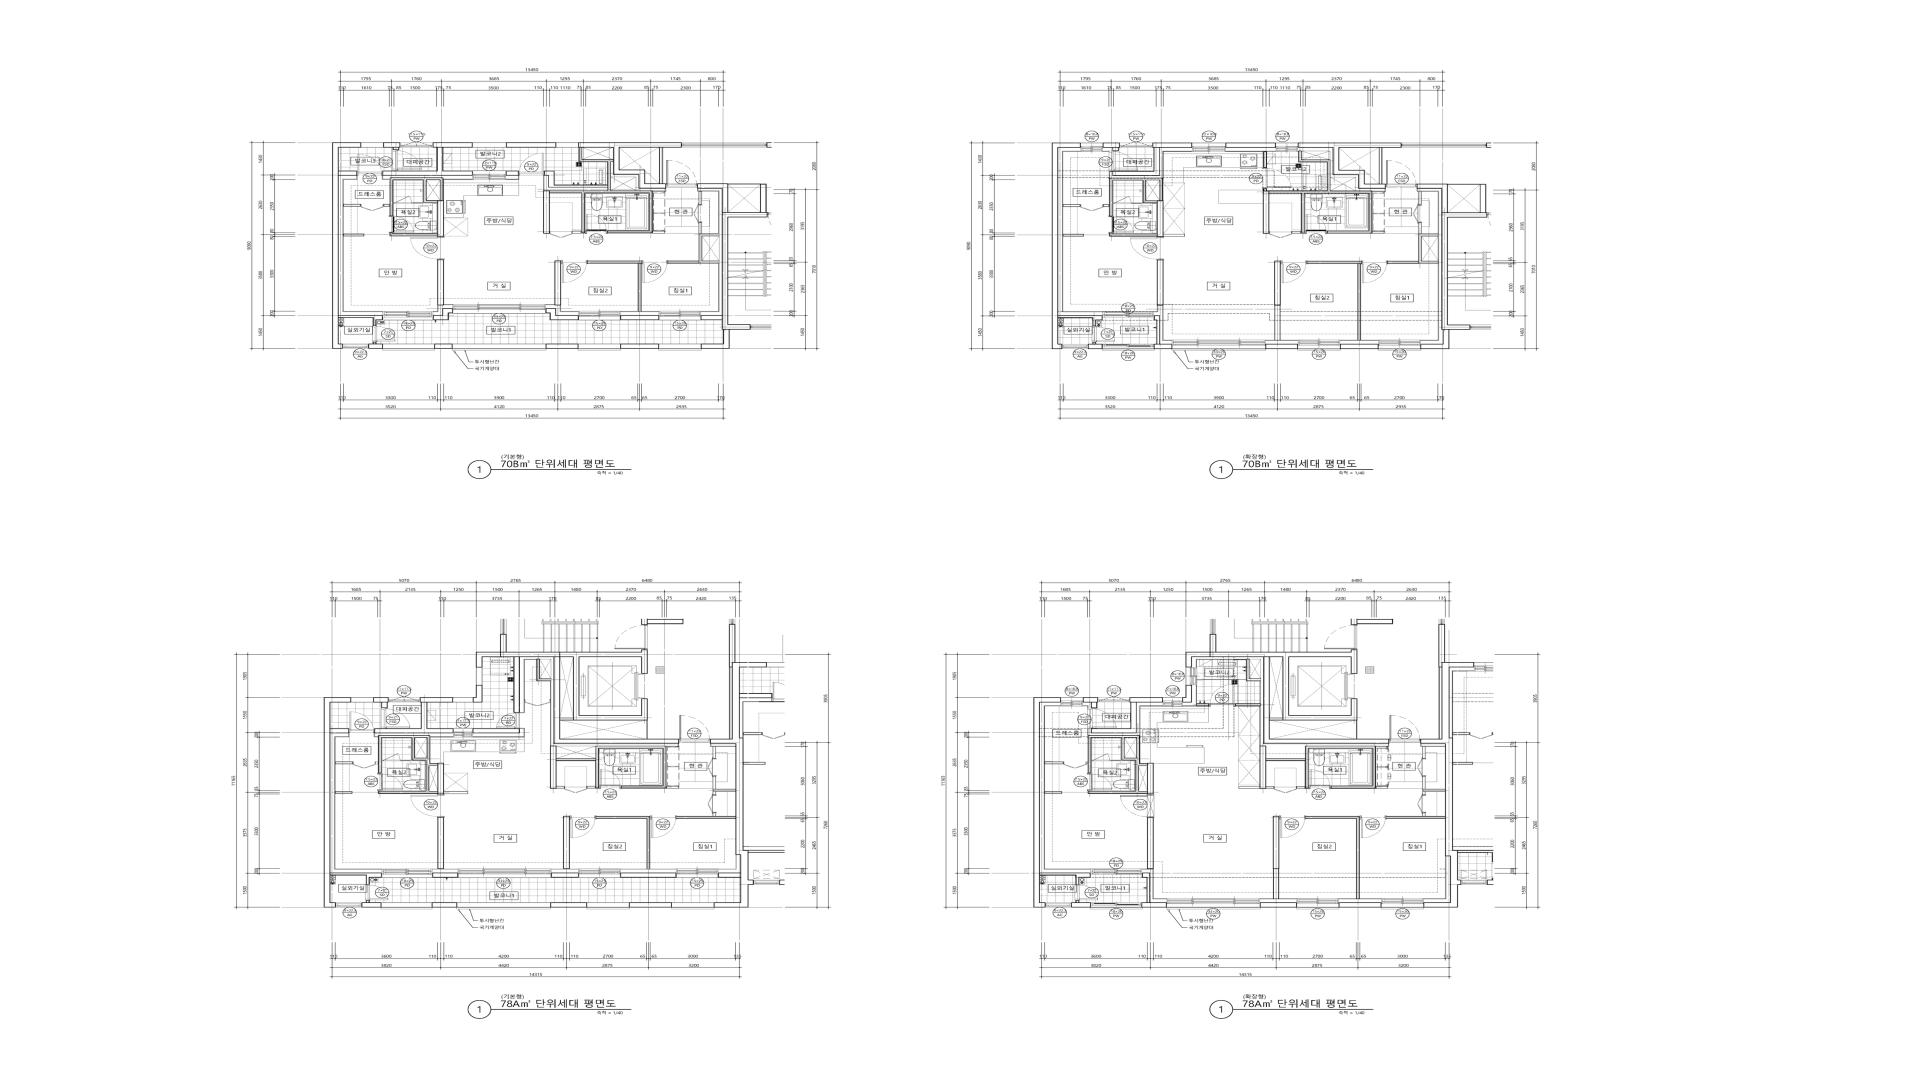door: (666, 160, 697, 188), (1385, 160, 1417, 187), (1389, 715, 1421, 741), (615, 625, 648, 650), (1324, 625, 1357, 650), (410, 236, 444, 260), (679, 715, 710, 741), (1120, 794, 1154, 817), (411, 794, 444, 817), (392, 150, 421, 171), (1279, 816, 1306, 838), (1263, 168, 1291, 189), (1088, 708, 1116, 729), (1109, 151, 1138, 171), (381, 708, 410, 728), (561, 261, 587, 283), (1362, 261, 1388, 283), (1281, 261, 1307, 283), (650, 816, 676, 838), (570, 816, 596, 838), (1360, 816, 1386, 838), (1209, 684, 1235, 706), (357, 154, 382, 176), (519, 153, 544, 175), (642, 261, 667, 283), (349, 712, 375, 733), (599, 769, 621, 789), (1308, 770, 1331, 789), (1088, 773, 1112, 791), (378, 773, 402, 791), (1305, 214, 1327, 233), (585, 214, 607, 233), (390, 216, 414, 233), (1109, 216, 1133, 233), (496, 713, 520, 728), (373, 326, 395, 342), (1093, 326, 1115, 342), (366, 885, 388, 900), (1076, 885, 1098, 900), (524, 699, 550, 706), (1413, 205, 1422, 223), (693, 205, 702, 223), (1269, 231, 1292, 238), (564, 786, 587, 793), (1274, 786, 1297, 793), (549, 231, 572, 238), (361, 204, 383, 211), (393, 196, 412, 204), (1063, 762, 1087, 768), (708, 758, 716, 776), (708, 795, 716, 813), (382, 753, 400, 761), (1418, 758, 1426, 776), (1418, 795, 1426, 813), (1080, 205, 1103, 211), (353, 762, 376, 768), (1114, 196, 1131, 204), (1092, 754, 1110, 761)
wall: (1186, 634, 1389, 744), (676, 624, 748, 908), (1386, 624, 1458, 908), (1192, 657, 1389, 758), (476, 650, 679, 744), (520, 657, 679, 746), (543, 142, 682, 234), (324, 697, 382, 908), (1033, 697, 1091, 908), (697, 184, 768, 349), (1417, 184, 1487, 349), (332, 142, 383, 349), (1052, 143, 1102, 349), (1263, 151, 1373, 234), (1040, 702, 1091, 873), (1058, 148, 1102, 315), (330, 733, 382, 873), (339, 176, 383, 316), (550, 746, 666, 789), (1260, 746, 1376, 789), (1298, 143, 1402, 189), (1306, 816, 1360, 899), (1307, 261, 1362, 340), (1417, 189, 1443, 344), (378, 735, 444, 794), (1088, 735, 1154, 794), (1298, 148, 1386, 191), (1109, 178, 1163, 237), (697, 189, 722, 315), (390, 178, 444, 236), (382, 142, 472, 176), (596, 816, 650, 869), (374, 697, 453, 733), (587, 261, 642, 311), (1113, 143, 1192, 176), (1091, 697, 1163, 733), (1109, 148, 1192, 178), (1088, 702, 1163, 735), (611, 162, 666, 191), (1424, 856, 1450, 903), (1266, 306, 1298, 344), (543, 176, 607, 191), (1142, 873, 1167, 908), (1142, 869, 1167, 903), (1154, 306, 1172, 344), (1154, 315, 1172, 349), (1273, 816, 1279, 899), (473, 728, 524, 737), (713, 776, 736, 795), (702, 236, 719, 261), (1423, 776, 1445, 795), (1422, 236, 1438, 261), (718, 855, 740, 873), (546, 308, 578, 320), (563, 816, 570, 869), (710, 744, 736, 758), (437, 817, 444, 869), (1147, 817, 1154, 869), (382, 176, 472, 180), (1421, 744, 1445, 758), (1246, 659, 1261, 681), (1146, 180, 1160, 203), (1157, 260, 1164, 306), (546, 305, 578, 315), (374, 733, 453, 737), (554, 261, 561, 306), (437, 260, 444, 305), (1274, 261, 1281, 306), (537, 659, 551, 681), (506, 142, 556, 148), (1183, 685, 1197, 706), (426, 180, 440, 200), (620, 873, 676, 878), (641, 619, 683, 625), (1351, 619, 1393, 625), (1226, 143, 1276, 148), (433, 308, 453, 320), (473, 728, 520, 733), (620, 869, 676, 873), (1125, 738, 1136, 758), (629, 903, 671, 908), (1339, 903, 1381, 908), (1226, 148, 1276, 152), (433, 305, 453, 315), (620, 315, 659, 320), (1340, 344, 1378, 349), (621, 344, 659, 349), (551, 903, 587, 908), (1260, 903, 1296, 908), (1339, 899, 1381, 903), (373, 697, 388, 708), (1083, 697, 1098, 708), (473, 685, 482, 703), (1183, 685, 1192, 703), (1266, 344, 1298, 349), (361, 900, 381, 908), (546, 344, 578, 349), (620, 311, 659, 315), (1340, 340, 1378, 344), (1071, 900, 1090, 908), (730, 667, 732, 739), (1260, 899, 1296, 903), (551, 873, 579, 878), (383, 142, 400, 150), (1103, 143, 1120, 151), (432, 873, 458, 878), (432, 903, 457, 908), (551, 869, 579, 873), (659, 148, 662, 184), (1379, 148, 1382, 184), (432, 869, 458, 873), (1088, 342, 1102, 349), (368, 342, 382, 349), (667, 261, 699, 264), (1387, 261, 1419, 264), (434, 344, 452, 349), (1263, 151, 1267, 168), (1163, 234, 1185, 237), (506, 171, 519, 176), (1239, 786, 1260, 789), (1235, 704, 1261, 706), (506, 176, 519, 180), (444, 792, 468, 794), (1083, 703, 1091, 708), (1103, 148, 1113, 152), (666, 786, 679, 789), (1376, 786, 1388, 789), (1356, 721, 1358, 739), (1448, 184, 1480, 185), (728, 184, 760, 185), (587, 786, 596, 789), (652, 231, 665, 233), (560, 718, 573, 720), (1270, 718, 1283, 720), (1196, 704, 1209, 706), (556, 786, 564, 789), (1266, 786, 1274, 789), (1297, 786, 1305, 789), (1373, 231, 1384, 233), (383, 204, 390, 207), (572, 231, 582, 233), (1292, 231, 1301, 233), (1103, 205, 1109, 207), (1131, 203, 1142, 204), (400, 760, 411, 761), (1110, 760, 1121, 761), (412, 203, 422, 204), (713, 813, 716, 816), (1423, 813, 1426, 816), (375, 762, 378, 764), (1086, 762, 1088, 764)
window: (1172, 340, 1266, 351), (1166, 899, 1261, 909), (458, 869, 551, 878), (453, 305, 546, 313), (452, 344, 546, 351), (457, 903, 551, 909), (1378, 340, 1421, 351), (1298, 340, 1340, 351), (1091, 869, 1142, 878), (383, 311, 433, 320), (382, 869, 432, 878), (1381, 899, 1424, 909), (1296, 899, 1339, 909), (578, 869, 620, 878), (676, 869, 718, 878), (578, 311, 620, 320), (659, 311, 701, 320), (382, 344, 435, 351), (1102, 344, 1154, 351), (1090, 903, 1142, 909), (1192, 143, 1226, 152), (381, 903, 432, 909), (472, 171, 506, 180), (658, 344, 701, 351), (578, 344, 621, 351), (1102, 312, 1154, 317), (671, 903, 714, 909), (587, 903, 629, 909), (1098, 696, 1130, 703), (472, 142, 506, 148), (1120, 142, 1153, 148), (1081, 143, 1103, 152), (1276, 143, 1298, 152), (1186, 667, 1197, 685), (1061, 697, 1083, 706), (400, 142, 433, 148), (388, 696, 420, 702), (1163, 697, 1183, 706), (453, 729, 473, 737), (556, 142, 579, 148), (351, 697, 373, 703), (361, 142, 383, 148), (1062, 344, 1088, 349), (1045, 903, 1071, 908), (335, 903, 361, 908), (343, 344, 368, 349), (453, 697, 473, 703), (476, 667, 482, 685)
